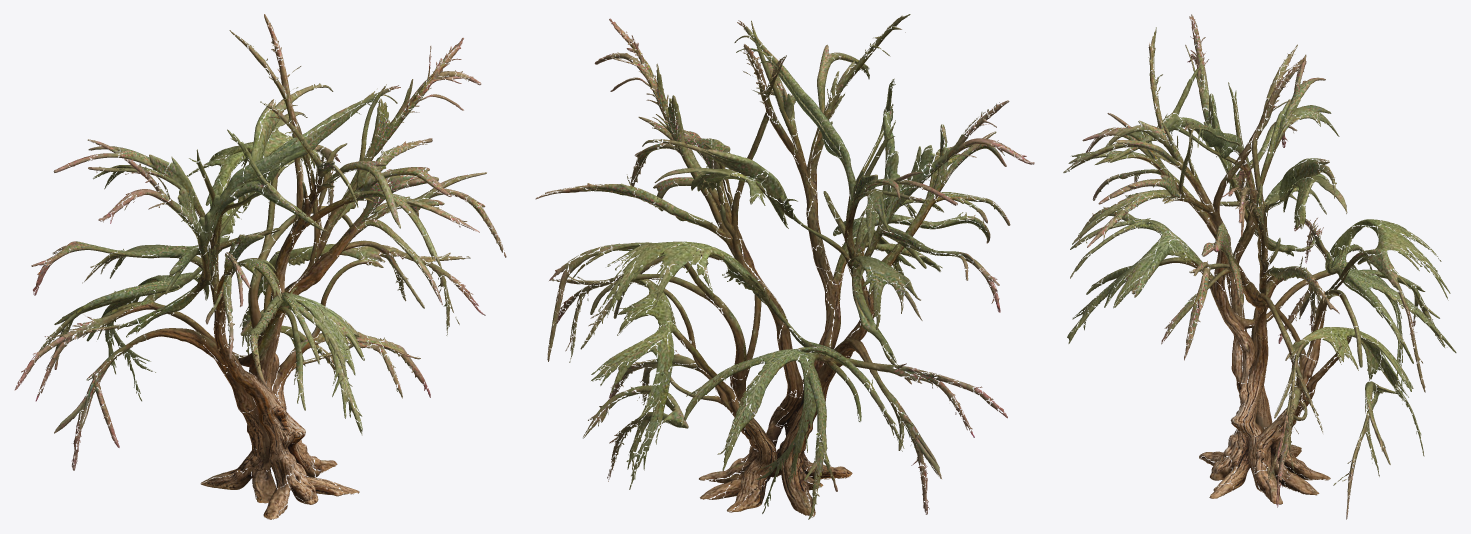
File: athel.glb
3 views of the same model, side by side, from view 1: azimuth 30°, elevation 25°; view 2: azimuth 150°, elevation 25°; view 3: azimuth 270°, elevation 25° (orthographic). The views are drawn at different scales.
Visible parts, largest first — view 1: tripo_node_b7841327-6733-4b50-93d3-174517a74b41; view 2: tripo_node_b7841327-6733-4b50-93d3-174517a74b41; view 3: tripo_node_b7841327-6733-4b50-93d3-174517a74b41.
Boxes of the visible parts, <box> form: tripo_node_b7841327-6733-4b50-93d3-174517a74b41: <box>14,14,506,519</box>; tripo_node_b7841327-6733-4b50-93d3-174517a74b41: <box>535,14,1034,519</box>; tripo_node_b7841327-6733-4b50-93d3-174517a74b41: <box>1063,14,1456,519</box>.
Bounding box in the file's own units: 0.9724 × 0.9139 × 0.7729.
Materials: 1 (1 with a texture image).
